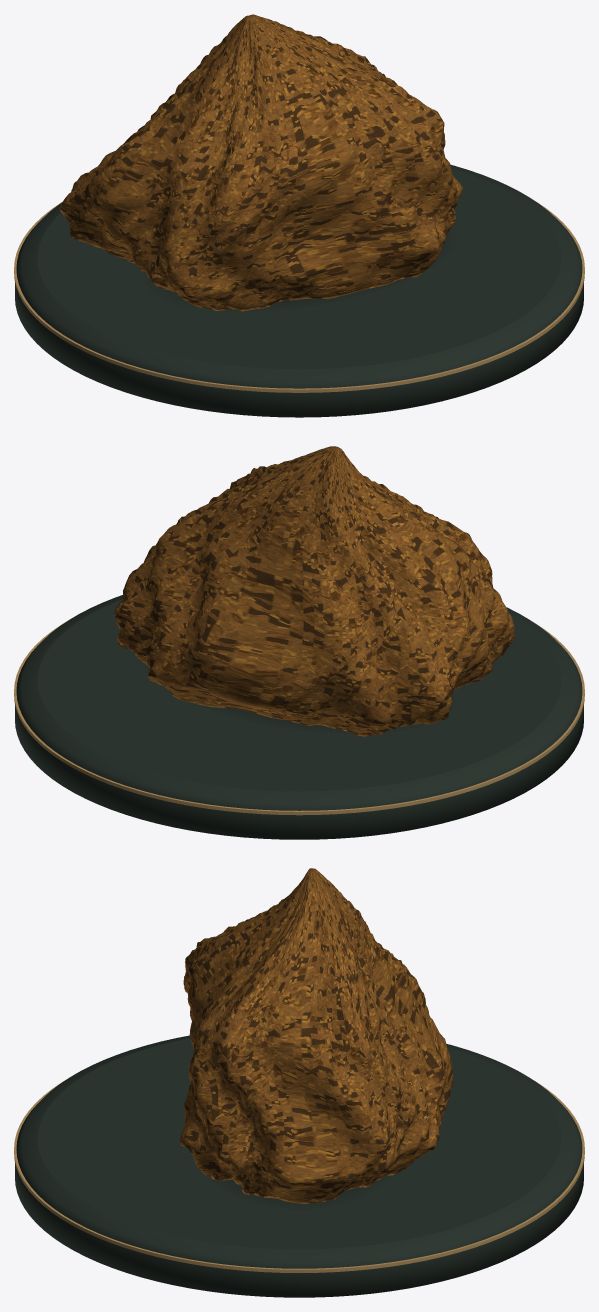
The model's file is lingstone-concept-10-v191-7d0d1db3ae18.glb.
3 views of the same model, one above another, from view 1: azimuth 30°, elevation 25°; view 2: azimuth 150°, elevation 25°; view 3: azimuth 270°, elevation 25° (orthographic).
Visible parts, largest first — view 1: XY-CONCEPT-010 concept stone, Centered beveled display plinth, Champagne gold edge; view 2: XY-CONCEPT-010 concept stone, Centered beveled display plinth, Champagne gold edge; view 3: Centered beveled display plinth, XY-CONCEPT-010 concept stone, Champagne gold edge.
Part boxes in pixels (x1,y1,x2,y2): XY-CONCEPT-010 concept stone: [60, 14, 463, 311]; Centered beveled display plinth: [15, 164, 583, 417]; Champagne gold edge: [14, 200, 584, 392]; XY-CONCEPT-010 concept stone: [114, 446, 514, 736]; Centered beveled display plinth: [15, 595, 583, 839]; Champagne gold edge: [14, 623, 584, 815]; Centered beveled display plinth: [15, 1035, 583, 1297]; XY-CONCEPT-010 concept stone: [180, 868, 453, 1203]; Champagne gold edge: [14, 1080, 584, 1272].
Size of the model in its own units: 2.34 by 1.32 by 2.34.
4 materials, 1 textured.
